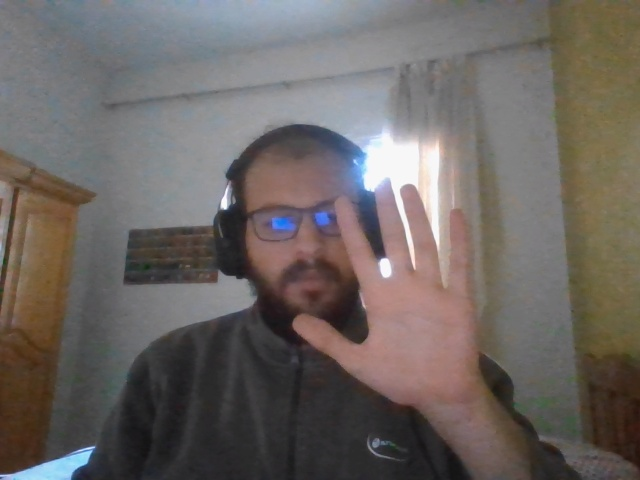Hello: (292, 179, 476, 401)
